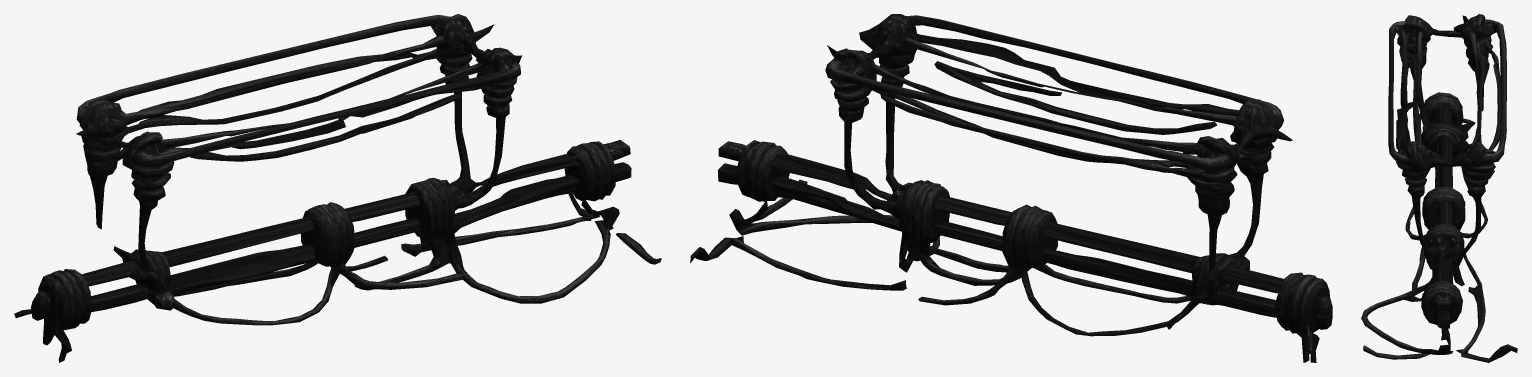
File: draped_wires_42_20251230_114034_20251230_115902.glb
3 renders of one model, left to right at view 1: azimuth 30°, elevation 25°; view 2: azimuth 150°, elevation 25°; view 3: azimuth 270°, elevation 25°, orthographic. The views are drawn at different scales.
Parts seen in each view (by area): view 1: world; view 2: world; view 3: world.
Boxes of the visible parts, box(x1,y1,x2,y2) form: world: box(14, 14, 661, 362); world: box(690, 14, 1332, 362); world: box(1361, 14, 1517, 362).
Bounding box in the file's own units: 0.9821 × 0.3715 × 0.3052.
1 material, 1 textured.
